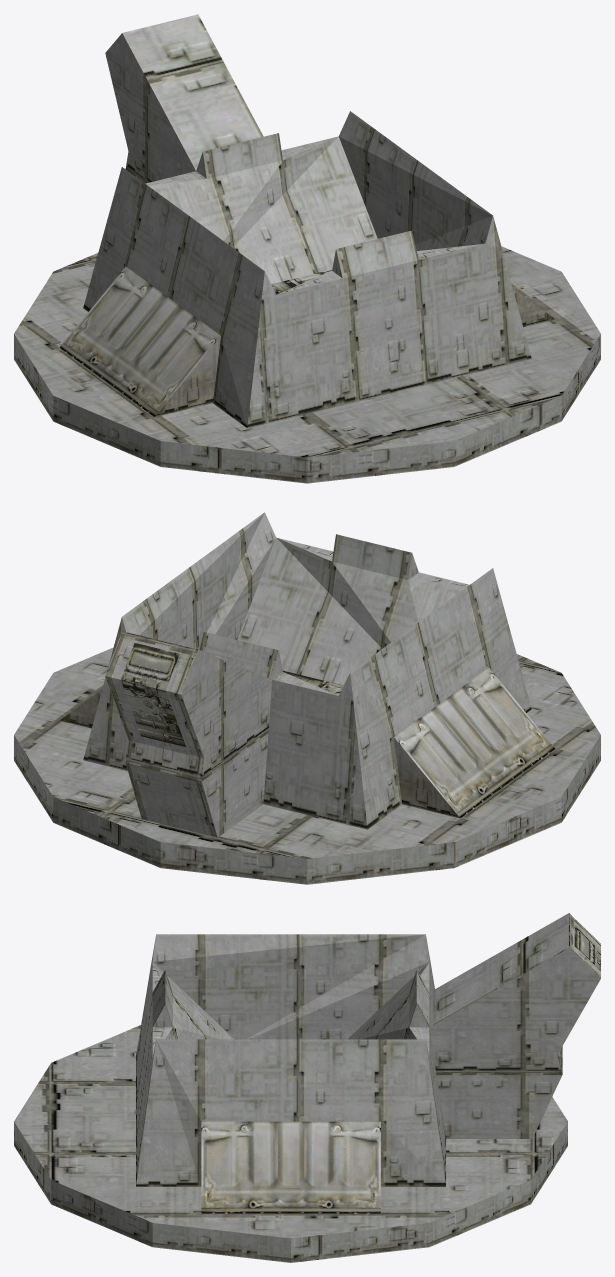
Rendered from ins_all_def_turret_lg_s03_turret_l1.fbx.
3 views of the same model, one above another, from view 1: azimuth 30°, elevation 25°; view 2: azimuth 150°, elevation 25°; view 3: azimuth 270°, elevation 25° (orthographic). The views are drawn at different scales.
Parts seen in each view (by area): view 1: mesh_node; view 2: mesh_node; view 3: mesh_node.
Part boxes in pixels (<box>): mesh_node: <box>14,14,600,483</box>; mesh_node: <box>14,512,600,884</box>; mesh_node: <box>14,913,600,1262</box>.
Size of the model in its own units: 2.74 by 1.17 by 2.9.
